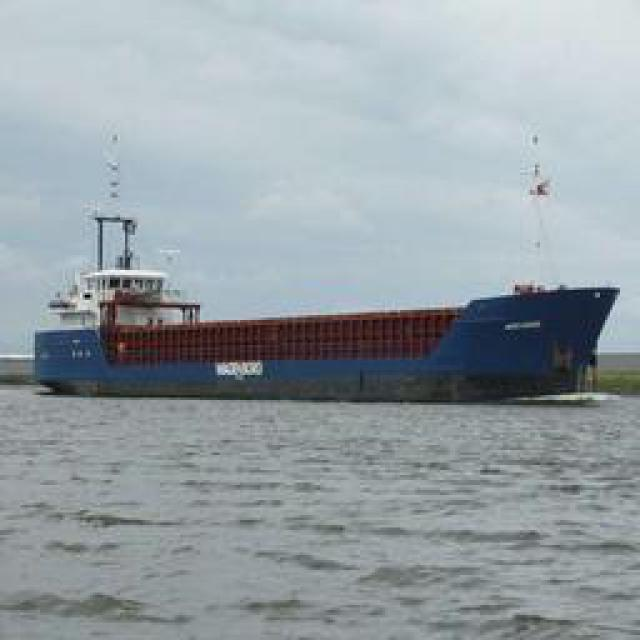Ship: (37, 220, 617, 403)
